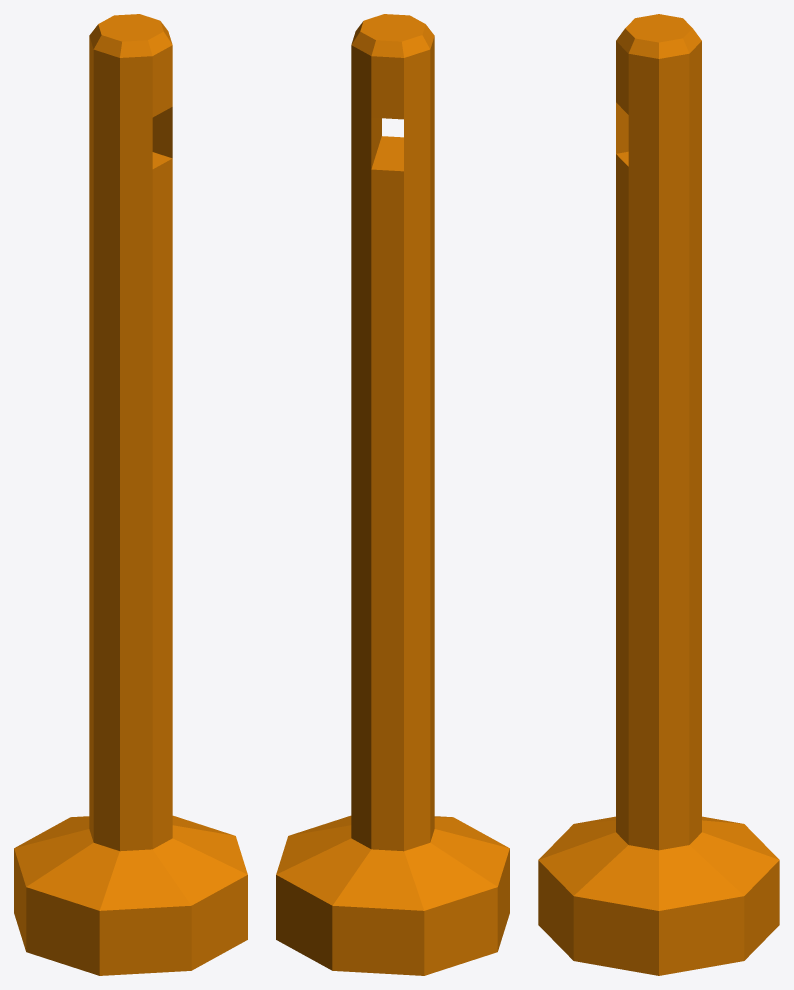
File: beacon.fbx
The picture shows the model from 3 angles, left to right: view 1: azimuth 30°, elevation 25°; view 2: azimuth 150°, elevation 25°; view 3: azimuth 270°, elevation 25°; orthographic projection.
Parts seen in each view (by area): view 1: Beacon; view 2: Beacon; view 3: Beacon.
Part boxes in pixels (x1,y1,x2,y2): Beacon: [14, 14, 247, 975]; Beacon: [276, 14, 509, 975]; Beacon: [538, 14, 779, 975].
Size of the model in its own units: 33.38 by 137 by 33.38.
